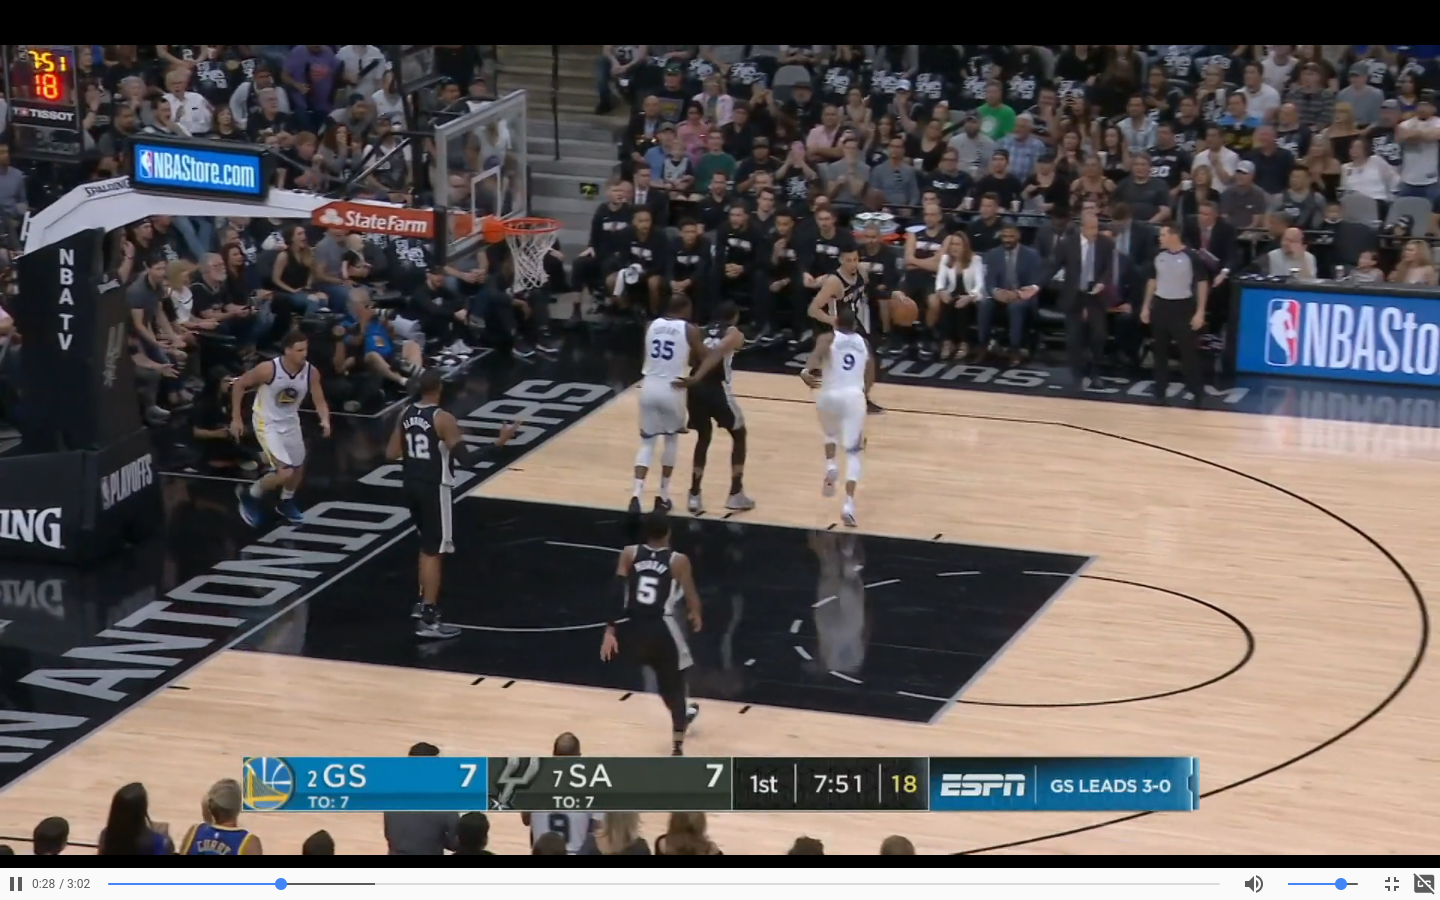basketball: (888, 294, 921, 331)
basketball player: (381, 369, 482, 643), (598, 520, 704, 756), (225, 332, 338, 526), (684, 291, 761, 520), (808, 319, 875, 542), (633, 292, 698, 522), (804, 242, 875, 325)
referee: (1138, 212, 1221, 411)
